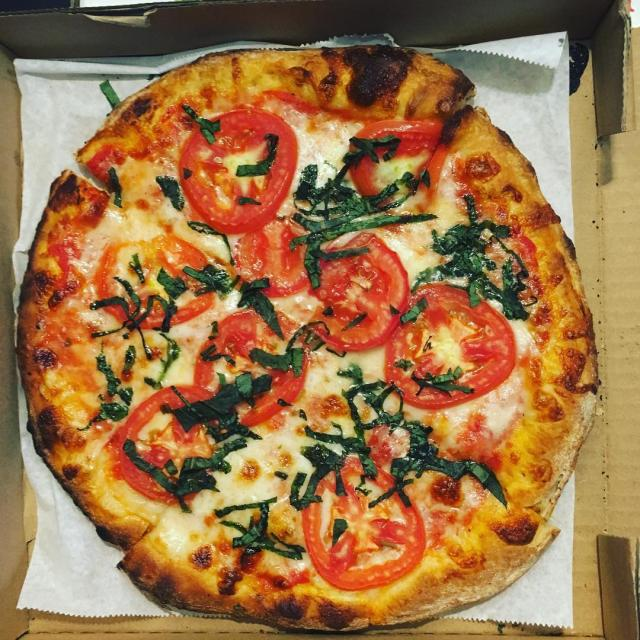basil: (276, 359, 512, 513), (290, 132, 440, 288), (75, 272, 182, 433), (417, 191, 540, 324), (120, 435, 250, 517), (165, 367, 277, 445), (212, 491, 306, 570), (237, 273, 287, 335), (249, 338, 314, 381), (410, 364, 473, 404), (186, 218, 238, 265), (234, 132, 282, 178), (183, 258, 236, 297), (180, 101, 222, 146), (155, 173, 186, 213), (122, 252, 154, 288), (394, 297, 430, 325), (199, 342, 235, 369), (157, 268, 187, 299), (328, 514, 352, 550), (108, 169, 124, 210), (234, 194, 265, 209), (392, 358, 414, 372)
pizza: (13, 42, 604, 640)
tomatoes: (301, 457, 427, 593), (381, 280, 513, 408), (177, 104, 299, 234), (290, 231, 412, 351), (111, 386, 226, 504), (193, 310, 309, 422), (92, 234, 219, 327), (349, 113, 444, 205), (233, 220, 313, 300)
